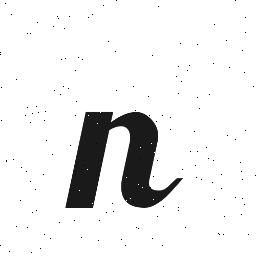n: (58, 102, 188, 218)
